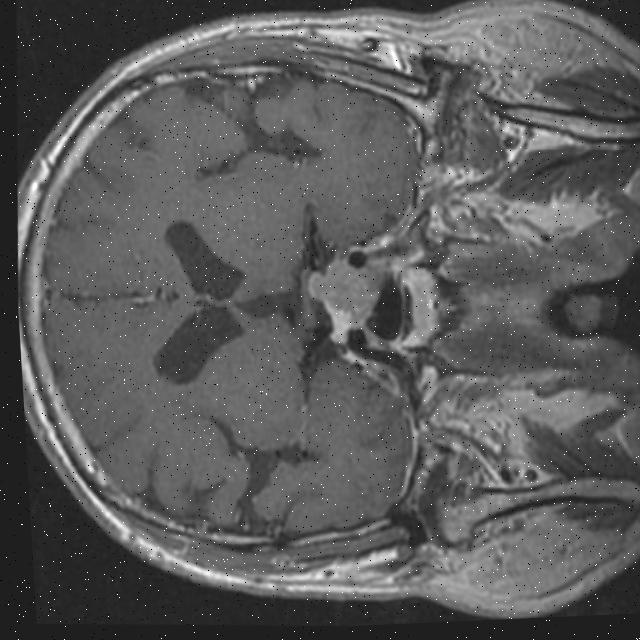Pituitary: (304, 254, 385, 334)
